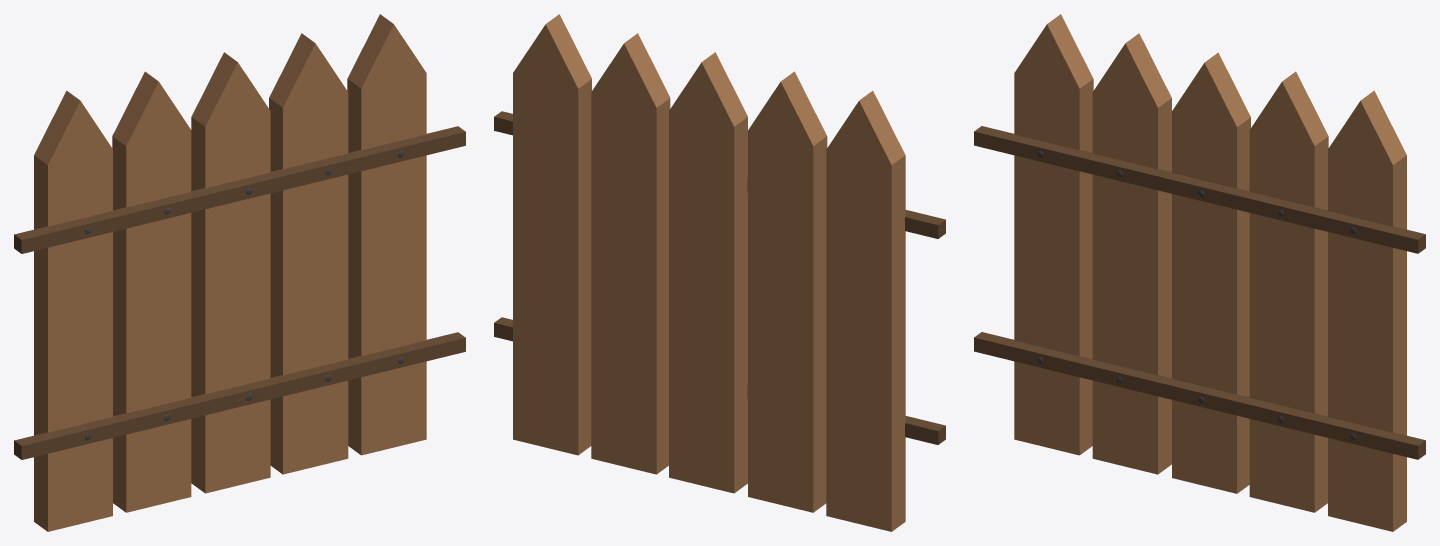
File: woodenFenceHigh.fbx
3 views of the same model, side by side, from view 1: azimuth 30°, elevation 25°; view 2: azimuth 150°, elevation 25°; view 3: azimuth 330°, elevation 25° (orthographic).
Parts seen in each view (by area): view 1: planks, linking; view 2: planks, linking; view 3: planks, linking.
Boxes of the visible parts, x1,y1,x2,y2 form: planks: [34, 14, 426, 531]; linking: [14, 126, 465, 459]; planks: [513, 14, 905, 531]; linking: [494, 111, 945, 444]; planks: [1014, 14, 1406, 531]; linking: [974, 126, 1425, 459].
Bounding box in the file's own units: 224 × 204 × 18.76.
